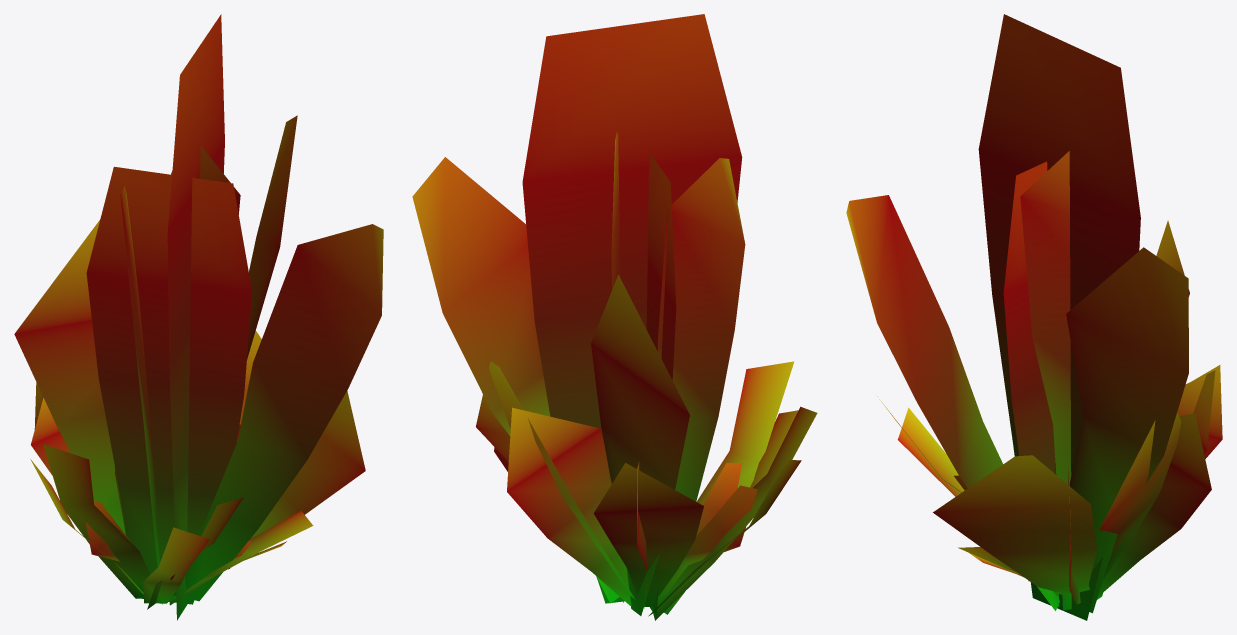
Rendered from Dead Broom Bush_LOD0_Var2_tlpjdhwia.fbx.
3 renders of one model, left to right at view 1: azimuth 30°, elevation 25°; view 2: azimuth 150°, elevation 25°; view 3: azimuth 270°, elevation 25°, orthographic. The views are drawn at different scales.
Parts seen in each view (by area): view 1: _5f5e_Var2_LOD0; view 2: _5f5e_Var2_LOD0; view 3: _5f5e_Var2_LOD0.
Part boxes in pixels (left/top/right/bottom): _5f5e_Var2_LOD0: left=14, top=14, right=383, bottom=620; _5f5e_Var2_LOD0: left=412, top=14, right=817, bottom=620; _5f5e_Var2_LOD0: left=846, top=14, right=1222, bottom=620.
Size of the model in its own units: 29.65 by 49.81 by 29.27.
